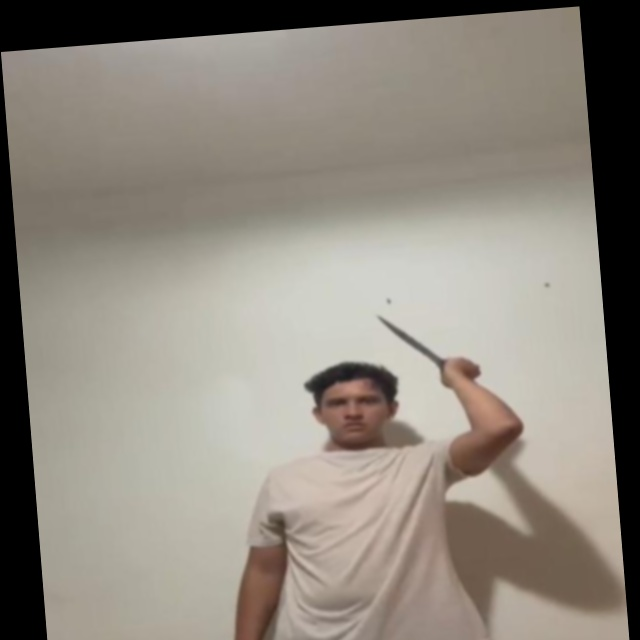Sharp-Object: (373, 310, 440, 364)
